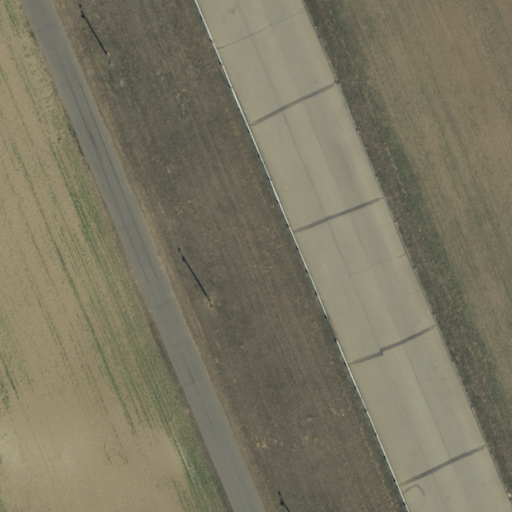DT: (97, 44, 121, 73), (201, 292, 221, 316)
